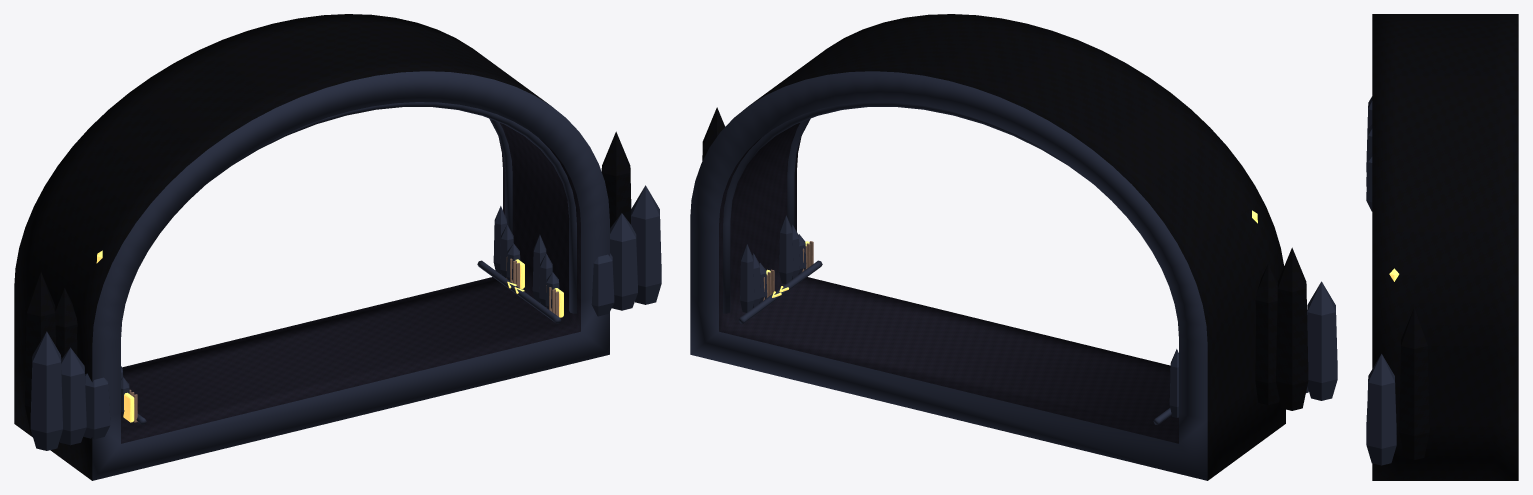
Rendered from portal_entry_lod1.glb.
3 renders of one model, left to right at view 1: azimuth 30°, elevation 25°; view 2: azimuth 150°, elevation 25°; view 3: azimuth 270°, elevation 25°, orthographic. The views are drawn at different scales.
Parts seen in each view (by area): view 1: TunnelGeometry.001; view 2: TunnelGeometry.001; view 3: TunnelGeometry.001.
Boxes of the visible parts, box(x1,y1,x2,y2) form: TunnelGeometry.001: box(14, 14, 661, 480); TunnelGeometry.001: box(690, 14, 1337, 480); TunnelGeometry.001: box(1366, 14, 1518, 480).
Bounding box in the file's own units: 18.66 × 9.52 × 4.17.
Materials: 5 (2 with a texture image).
